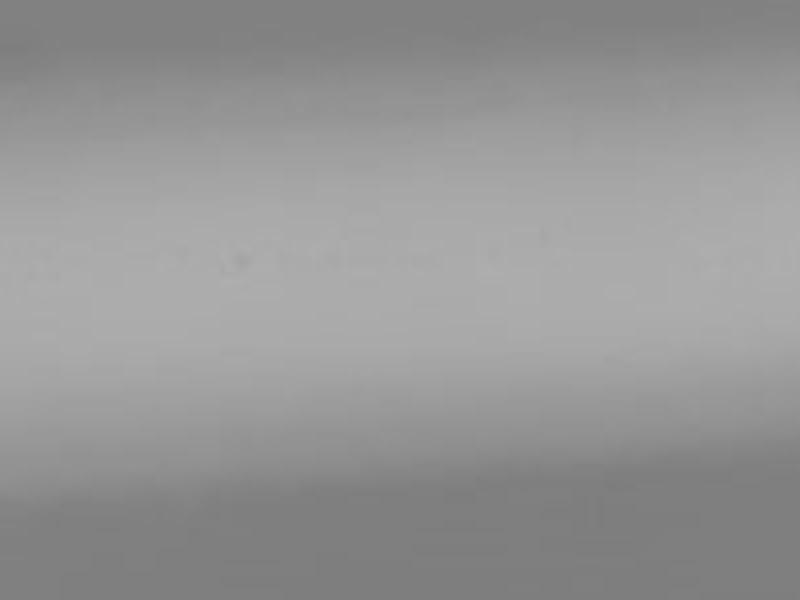defect: (229, 244, 252, 271)
